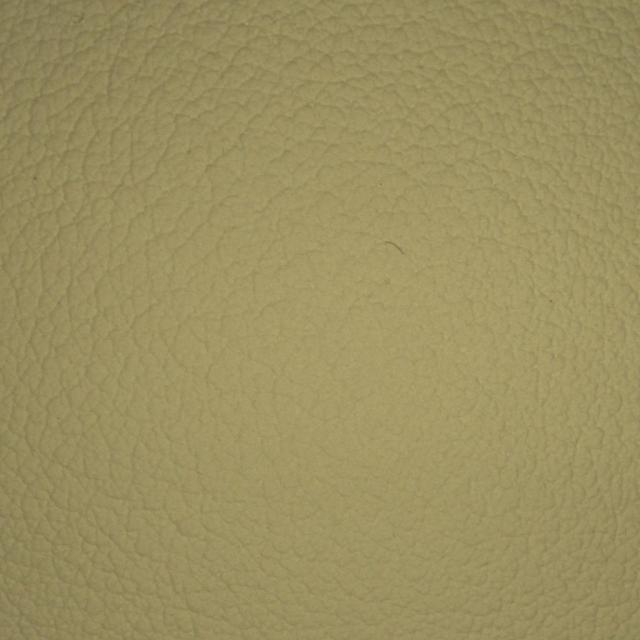Scratch: (338, 152, 457, 327)
